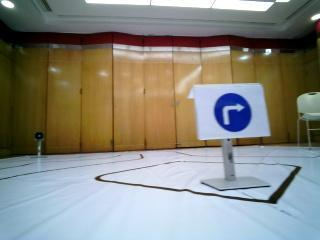right: (196, 88, 264, 134)
